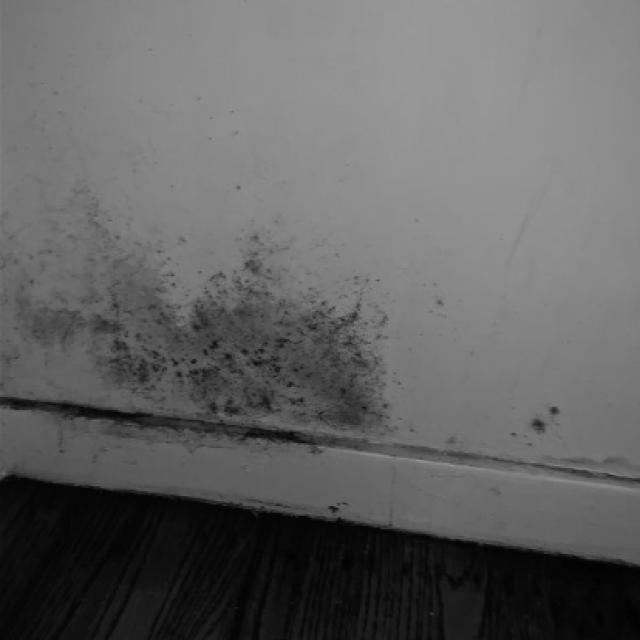stain marks: (188, 85, 416, 461), (0, 37, 186, 471), (308, 463, 640, 530), (484, 144, 567, 383), (490, 386, 580, 450), (505, 21, 558, 111), (177, 477, 307, 512), (418, 216, 480, 270), (421, 272, 469, 328), (445, 333, 483, 393), (417, 437, 483, 458)
